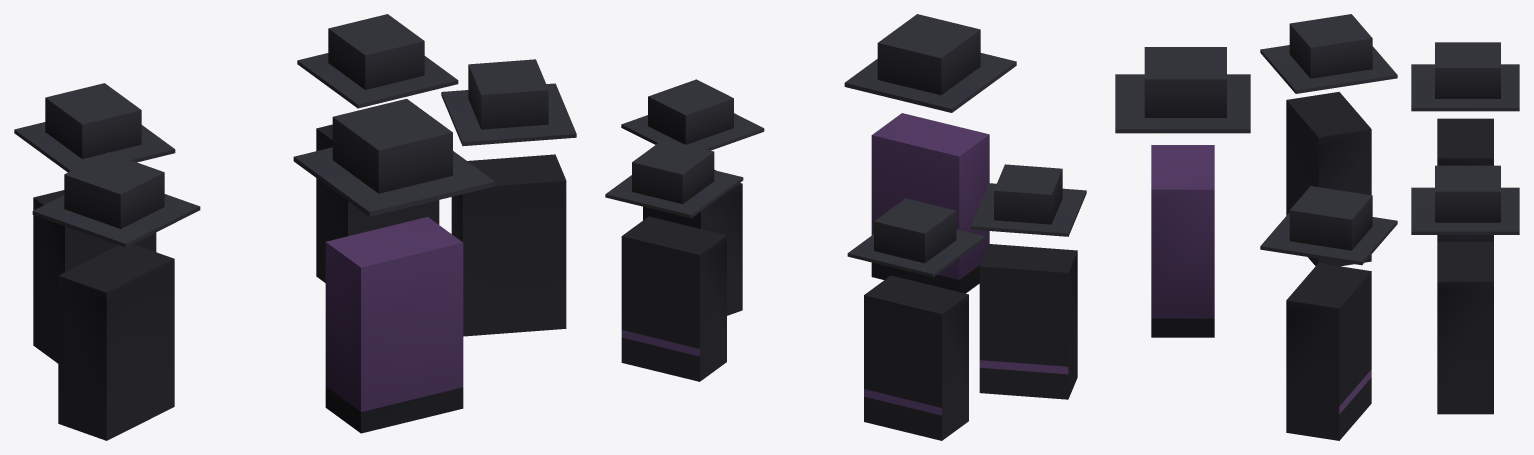
File: velvet-mob-lod3.glb
3 renders of one model, left to right at view 1: azimuth 30°, elevation 25°; view 2: azimuth 150°, elevation 25°; view 3: azimuth 270°, elevation 25°, orthographic. The views are drawn at different scales.
Parts seen in each view (by area): view 1: cap_torso, att3_torso, att2_torso, cap_hat, att3_hat, att0_hat, att2_hat, att1_hat, att1_torso, att0_torso; view 2: att0_torso, att1_torso, att3_torso, cap_torso, cap_hat, att0_hat, att1_hat, att3_hat, att2_hat, att2_torso; view 3: att2_torso, cap_torso, cap_hat, att0_torso, att3_torso, att3_hat, att2_hat, att0_hat, att1_hat, att1_torso.
Boxes of the visible parts, x1,y1,x2,y2 form: cap_torso: [325, 217, 463, 433]; att3_torso: [58, 244, 174, 440]; att2_torso: [451, 154, 566, 336]; cap_hat: [293, 98, 494, 216]; att3_hat: [32, 152, 200, 247]; att0_hat: [297, 14, 458, 108]; att2_hat: [441, 59, 576, 146]; att1_hat: [14, 83, 175, 172]; att1_torso: [33, 190, 156, 363]; att0_torso: [316, 124, 439, 282]; att0_torso: [621, 216, 726, 381]; att1_torso: [864, 275, 968, 440]; att3_torso: [979, 244, 1077, 399]; cap_torso: [871, 113, 989, 293]; cap_hat: [844, 14, 1016, 112]; att0_hat: [605, 139, 743, 218]; att1_hat: [847, 198, 985, 277]; att3_hat: [971, 164, 1086, 236]; att2_hat: [621, 79, 764, 150]; att2_torso: [643, 169, 742, 315]; att2_torso: [1286, 263, 1371, 440]; cap_torso: [1151, 145, 1214, 337]; cap_hat: [1115, 47, 1250, 133]; att0_torso: [1437, 242, 1493, 414]; att3_torso: [1286, 91, 1371, 266]; att3_hat: [1260, 14, 1397, 93]; att2_hat: [1260, 186, 1397, 265]; att0_hat: [1411, 165, 1519, 234]; att1_hat: [1411, 42, 1519, 111]; att1_torso: [1437, 118, 1493, 241].
Size of the model in its own units: 2.29 by 1.26 by 1.72.
